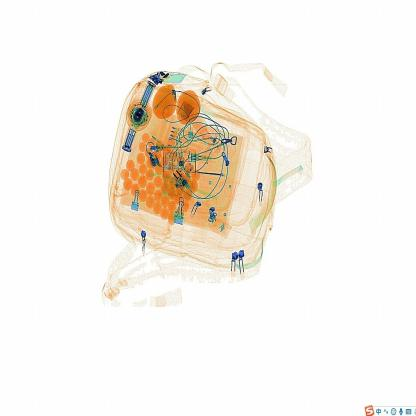wrench: (191, 165, 240, 193)
